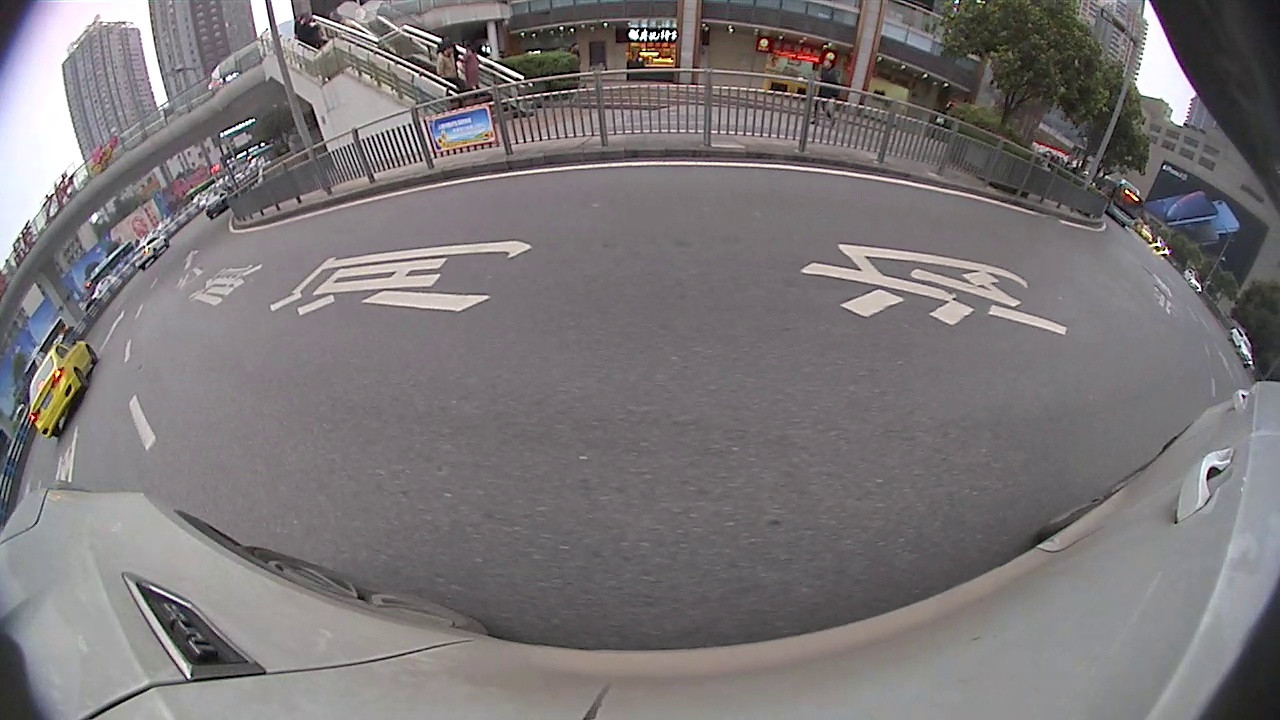bus: (1107, 180, 1142, 230)
car: (26, 338, 97, 440), (1227, 326, 1261, 367), (134, 234, 169, 267), (201, 187, 230, 216)
